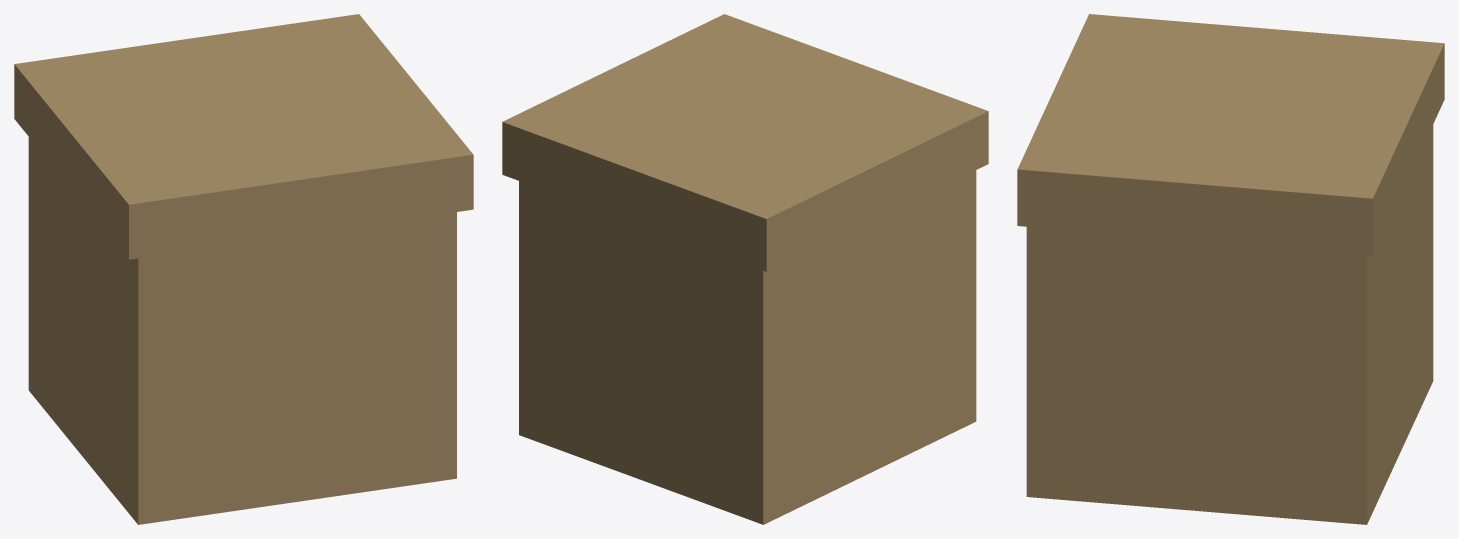
3 views of the same model, side by side, from view 1: azimuth 30°, elevation 25°; view 2: azimuth 150°, elevation 25°; view 3: azimuth 270°, elevation 25° (orthographic). The views are drawn at different scales.
Visible parts, largest first — view 1: box_1, box_lid_1; view 2: box_1, box_lid_1; view 3: box_1, box_lid_1.
Part boxes in pixels (x1,y1,x2,y2): box_1: (28, 137, 456, 524); box_lid_1: (14, 14, 473, 259); box_1: (519, 170, 976, 524); box_lid_1: (502, 14, 988, 271); box_1: (1026, 124, 1433, 524); box_lid_1: (1017, 14, 1444, 255).
Bounding box in the file's own units: 13.28 × 11.18 × 12.97.
